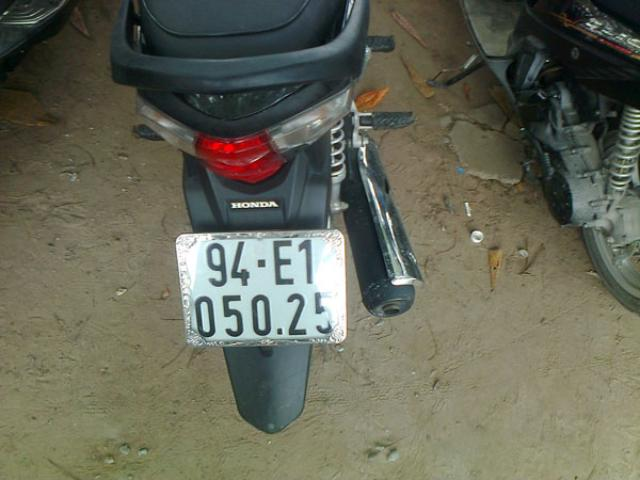plate: (179, 237, 345, 343)
